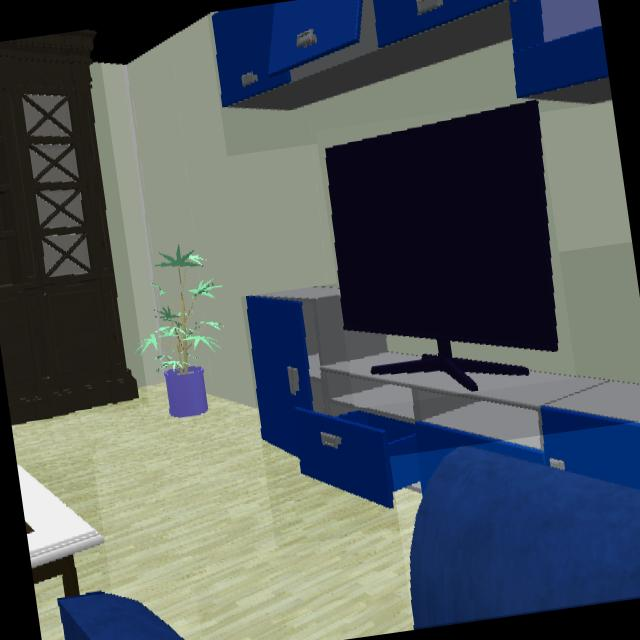bookshelf: (0, 28, 132, 426)
cabinet: (246, 289, 640, 512), (211, 0, 613, 112)
monitor: (326, 101, 559, 393)
sofa: (410, 447, 640, 629), (58, 593, 184, 640)
table: (17, 465, 104, 598)
